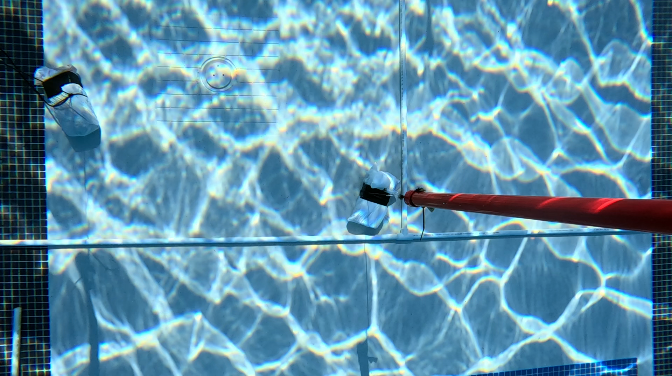sandbag: (34, 63, 93, 130), (350, 168, 394, 225)
